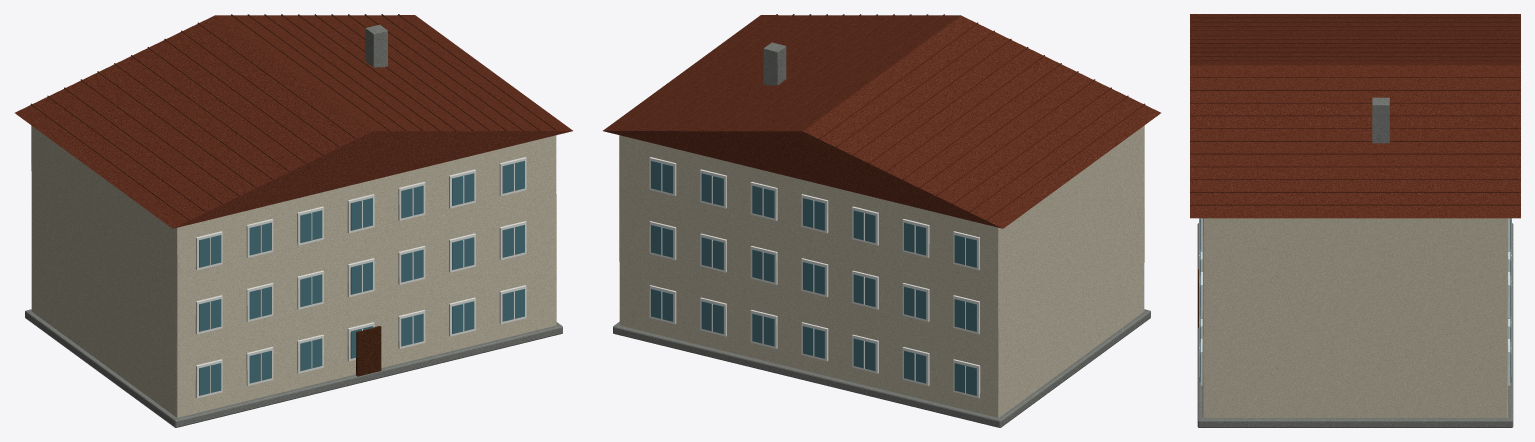
Rendered from Apartment_3Floors_LOD1.glb.
3 renders of one model, left to right at view 1: azimuth 30°, elevation 25°; view 2: azimuth 150°, elevation 25°; view 3: azimuth 270°, elevation 25°, orthographic. The views are drawn at different scales.
Visible parts, largest first — view 1: Apartment_3Floors_export; view 2: Apartment_3Floors_export; view 3: Apartment_3Floors_export.
Part boxes in pixels (x1,y1,x2,y2): Apartment_3Floors_export: (15, 14, 572, 427); Apartment_3Floors_export: (603, 14, 1160, 427); Apartment_3Floors_export: (1190, 14, 1520, 427).
Bounding box in the file's own units: 19 × 12 × 13.
6 materials, 4 textured.
